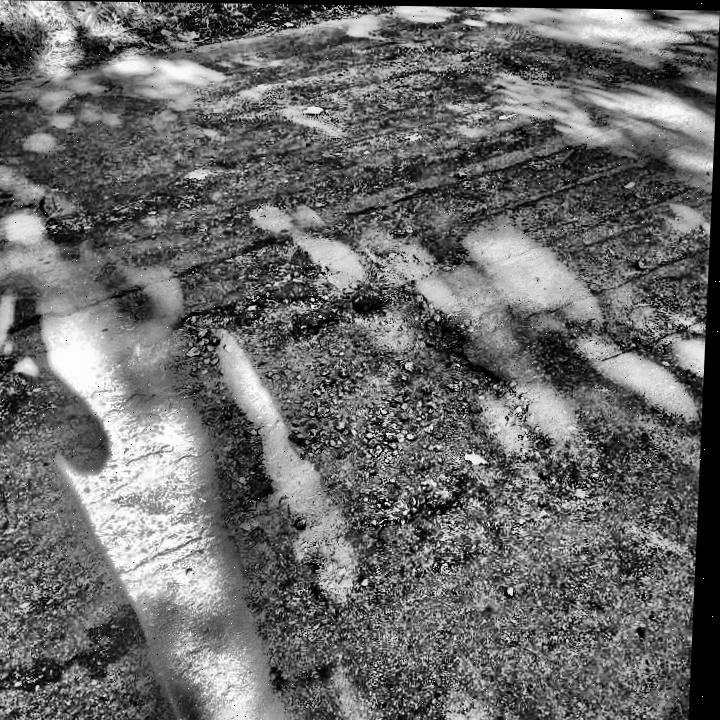pothole: (157, 274, 566, 545)
